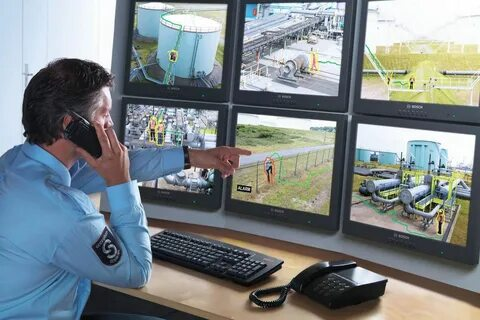awake: (1, 56, 155, 320)
